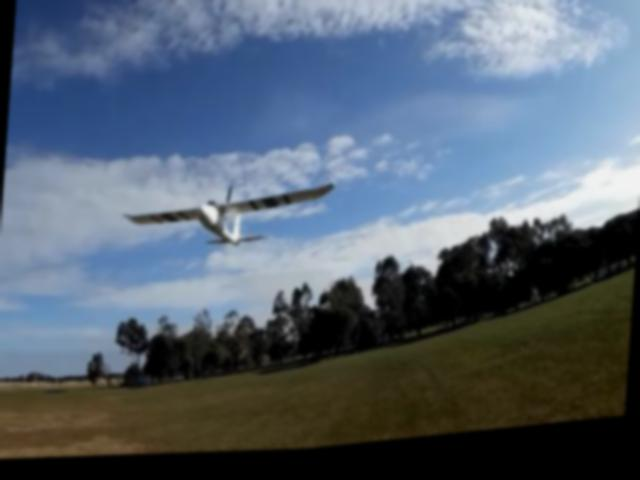uav: (121, 163, 336, 292)
